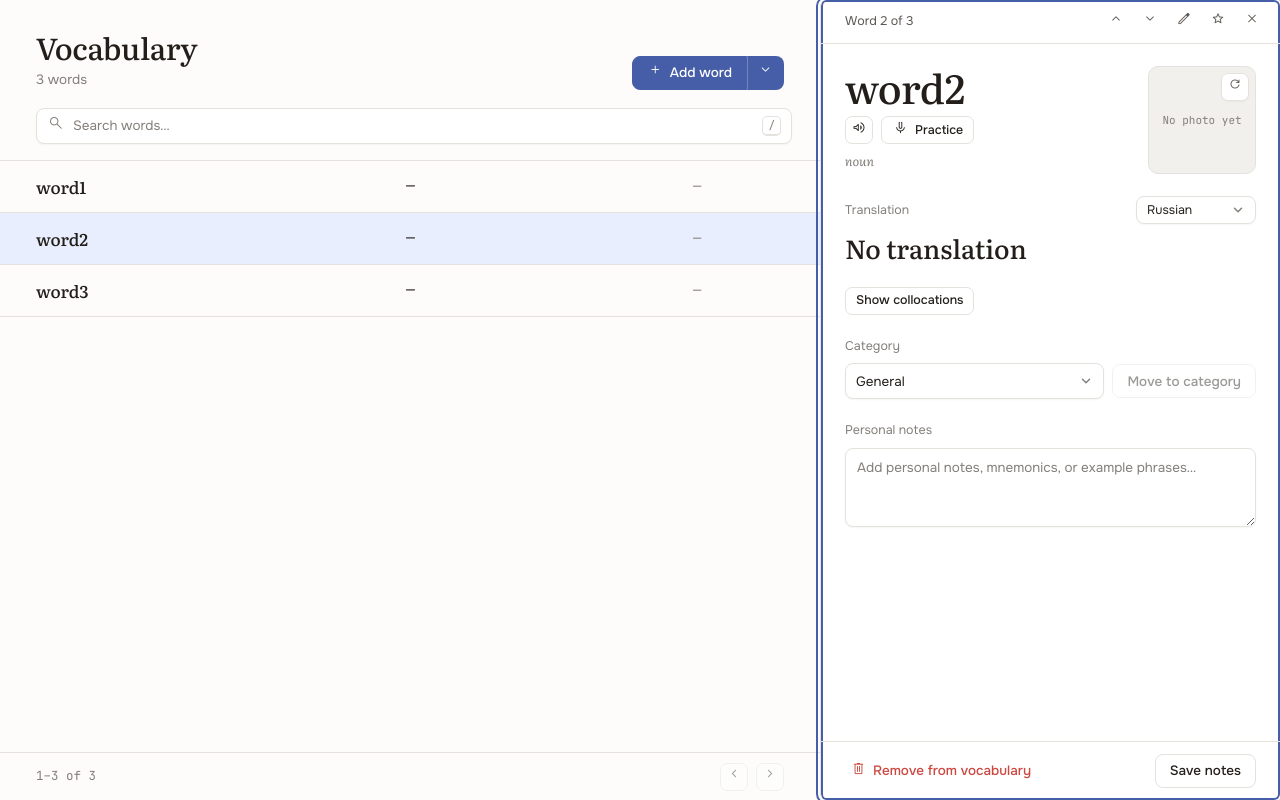
it: VocabularyPage — keyboard › opens a word as a side panel and steps through the words of the page
Check: the row "word1 — —" is shown, box [0,161,820,213]
Check: the text "Word 2 of 3" is shown, box [845,12,913,31]
Click the button named "Next word" at (1150, 22), box [1136,8,1164,36]
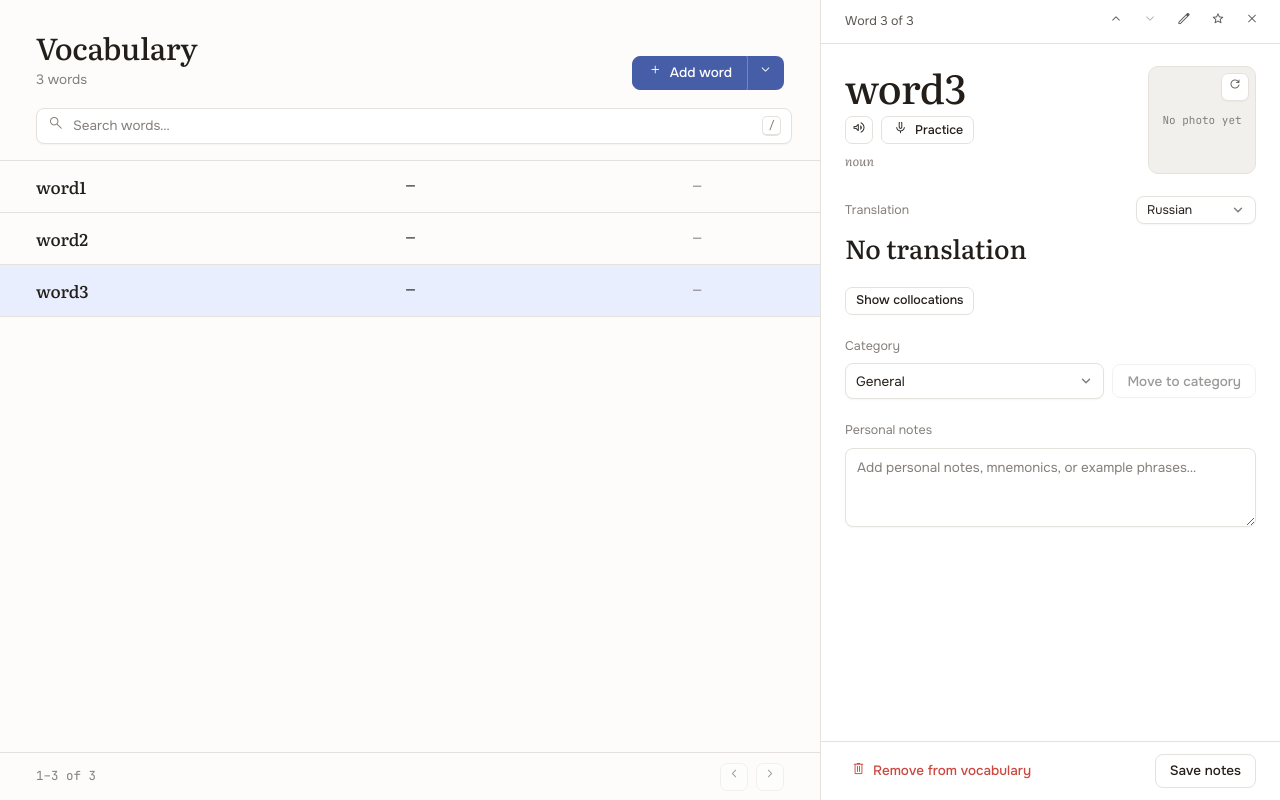
Check: the dialog "word3" is shown, box [820,0,1279,799]
Click the button named "Previous word" at (1116, 22), box [1102,8,1130,36]
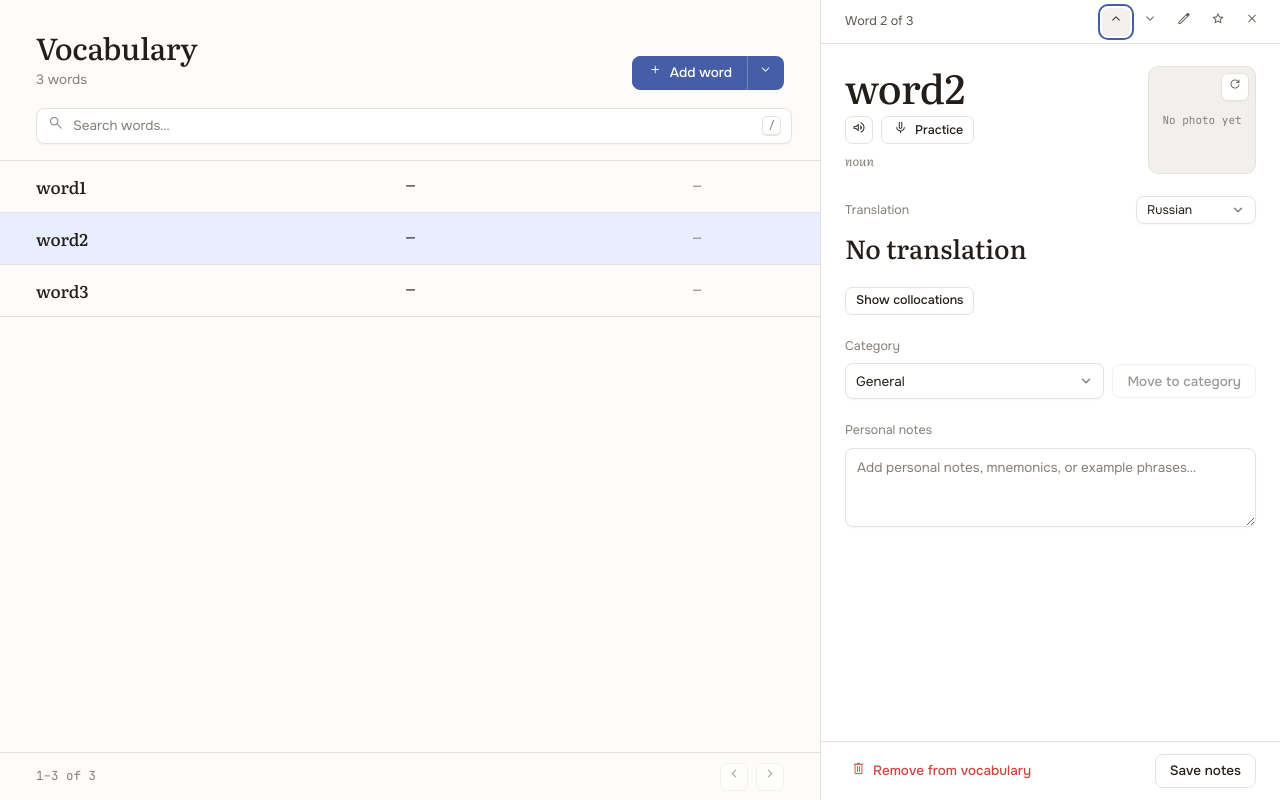
Check: the dialog "word2" is shown, box [820,0,1279,799]
Click the button named "Close word details" at (1252, 22), box [1238,8,1266,36]
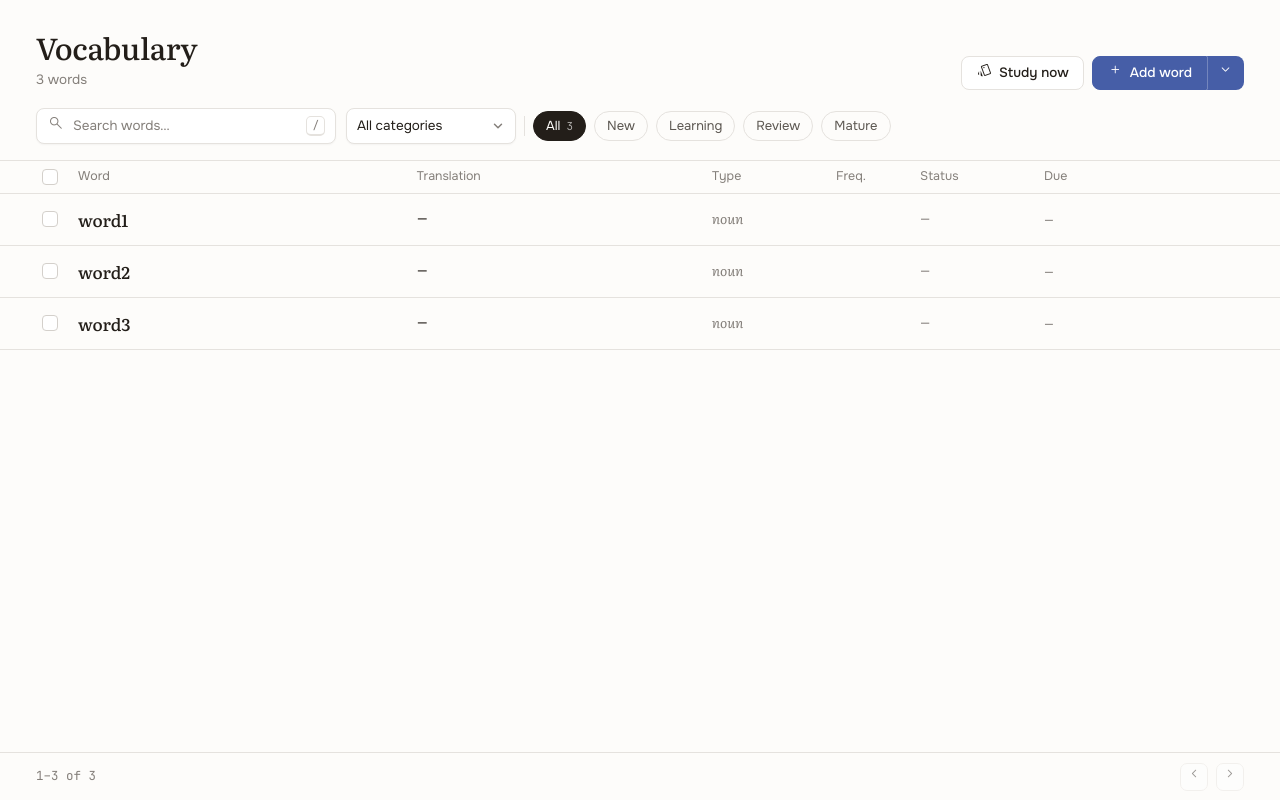
Check: the dialog is gone
